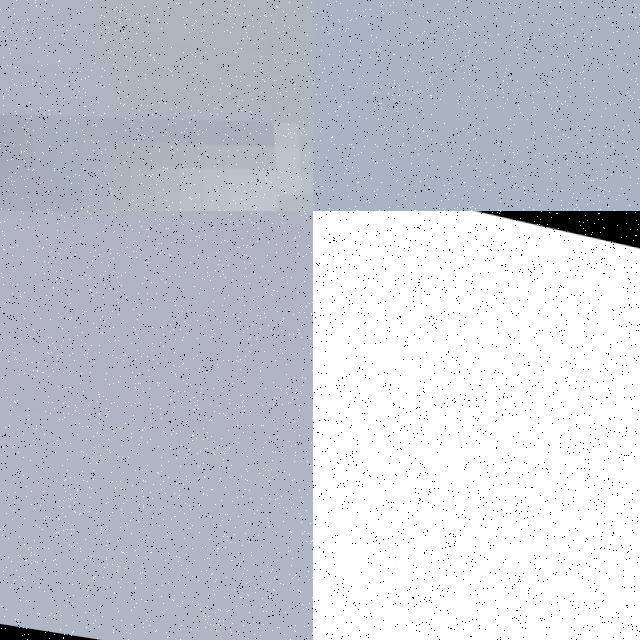0: (0, 0, 313, 211)
drone: (313, 211, 640, 640)
